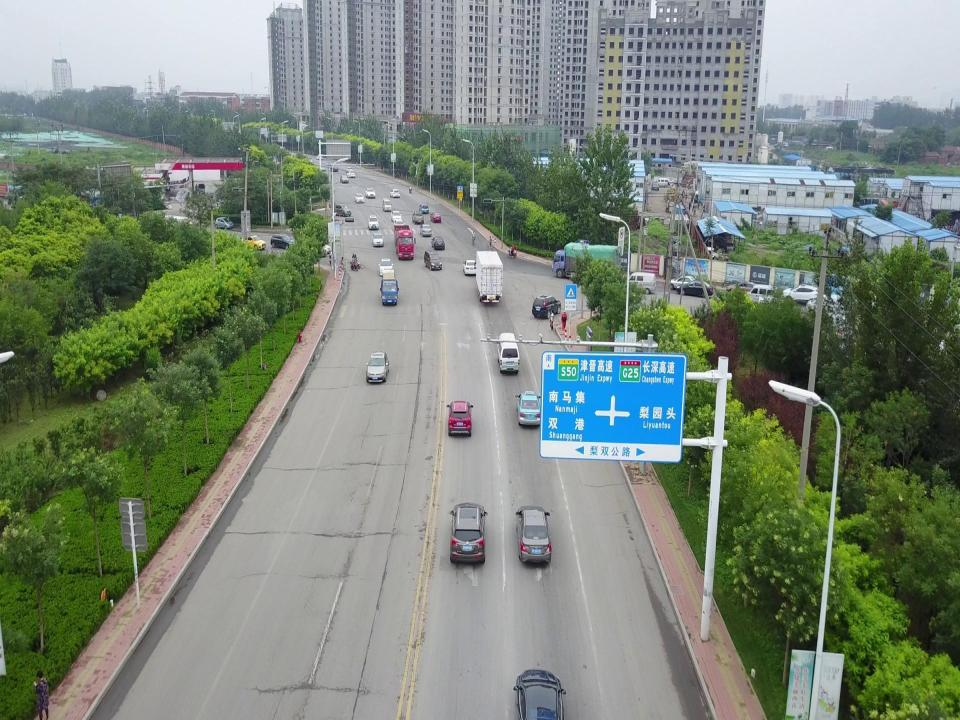car: (513, 668, 567, 718), (450, 502, 488, 563), (515, 506, 552, 566), (447, 399, 475, 437), (515, 390, 543, 427), (783, 284, 823, 304), (366, 350, 390, 382), (532, 295, 562, 318), (676, 280, 714, 298), (726, 281, 760, 297), (667, 275, 701, 290), (306, 240, 332, 258), (240, 234, 266, 251), (270, 234, 296, 249), (378, 258, 394, 276), (463, 260, 477, 276), (215, 217, 233, 229), (431, 236, 445, 250), (371, 233, 384, 247), (412, 211, 424, 225), (394, 219, 405, 234), (368, 216, 379, 230), (420, 224, 432, 236), (429, 211, 441, 223), (655, 178, 670, 187), (390, 211, 402, 222), (364, 188, 376, 198), (419, 203, 429, 214), (354, 193, 364, 203), (389, 190, 400, 197), (340, 175, 348, 183), (345, 171, 355, 177), (652, 180, 658, 190), (318, 165, 326, 172), (345, 166, 353, 172), (330, 166, 338, 172), (316, 155, 322, 160), (688, 201, 691, 211)
truck: (552, 243, 622, 279), (476, 251, 503, 303), (394, 224, 416, 261), (380, 269, 398, 305)
van: (497, 331, 519, 374), (745, 285, 783, 308), (806, 295, 846, 315), (624, 272, 655, 294), (424, 250, 442, 270), (331, 204, 351, 216), (382, 198, 392, 211), (198, 183, 206, 195)
